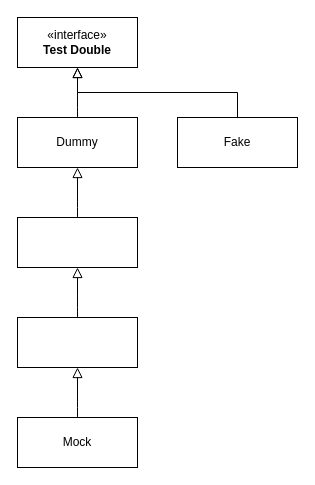
Image size: 315x485. Some labels were removed from this diagram. Here are the shapes that lost their labels. From the top down, the centre of each, then its label:
At (x=77, y=242): "Stub".
At (x=77, y=342): "Spy".
